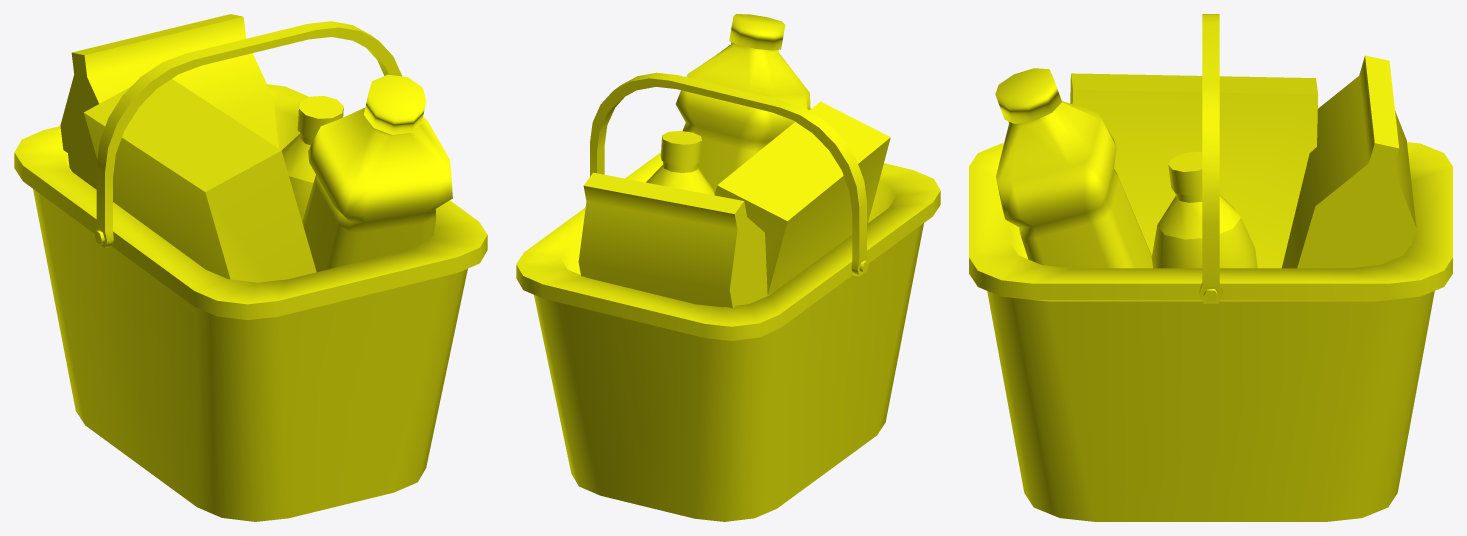
3 views of the same model, side by side, from view 1: azimuth 30°, elevation 25°; view 2: azimuth 150°, elevation 25°; view 3: azimuth 270°, elevation 25° (orthographic). The views are drawn at different scales.
Visible parts, largest first — view 1: GioHang; view 2: GioHang; view 3: GioHang.
Part boxes in pixels (<box>): GioHang: <box>14,14,487,521</box>; GioHang: <box>516,14,940,521</box>; GioHang: <box>969,14,1452,521</box>.
Bounding box in the file's own units: 0.2472 × 0.3135 × 0.327.
1 material, 1 textured.
